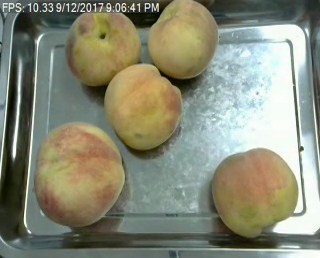Peach: (33, 121, 124, 228), (210, 147, 299, 237), (104, 63, 181, 149), (64, 4, 142, 87), (147, 0, 219, 78)
